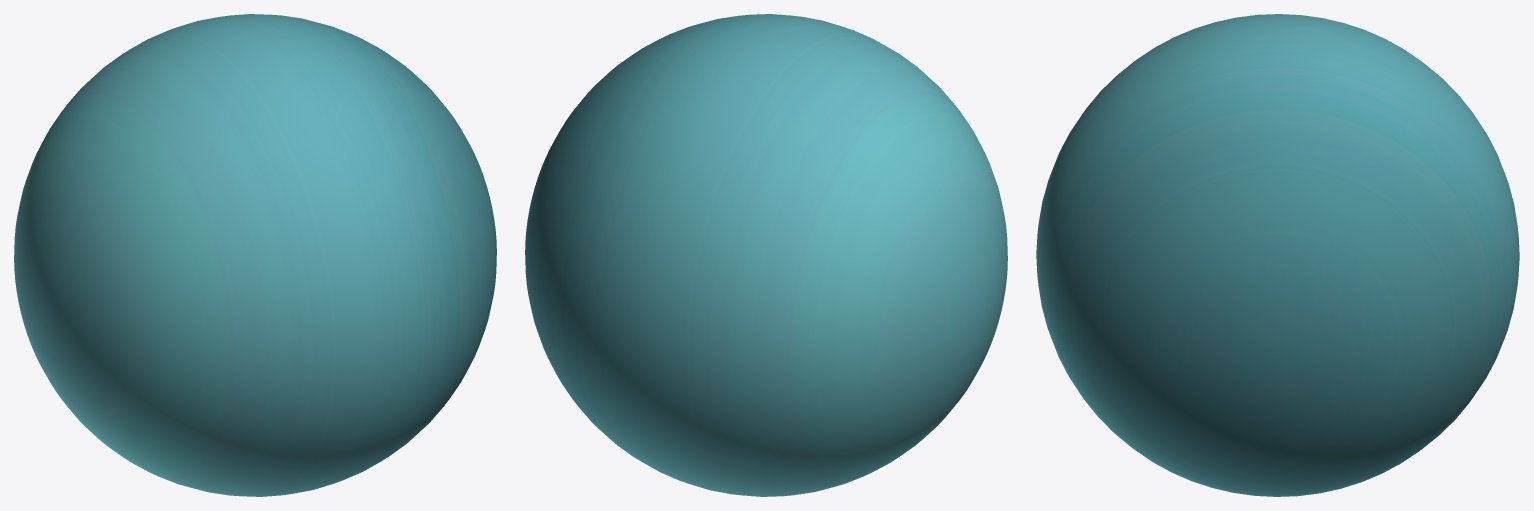
File: uranus.glb
3 views of the same model, side by side, from view 1: azimuth 30°, elevation 25°; view 2: azimuth 150°, elevation 25°; view 3: azimuth 270°, elevation 25° (orthographic).
Visible parts, largest first — view 1: uranus; view 2: uranus; view 3: uranus.
Boxes of the visible parts, <box> form: uranus: <box>14,14,496,496</box>; uranus: <box>525,14,1007,496</box>; uranus: <box>1036,14,1519,496</box>.
Size of the model in its own units: 5.7 by 5.7 by 5.7.
Materials: 1 (1 with a texture image).
